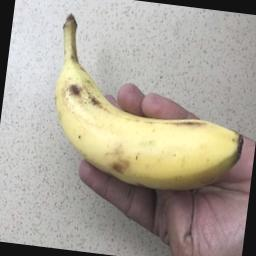Banana Ripe: (18, 4, 256, 219)
